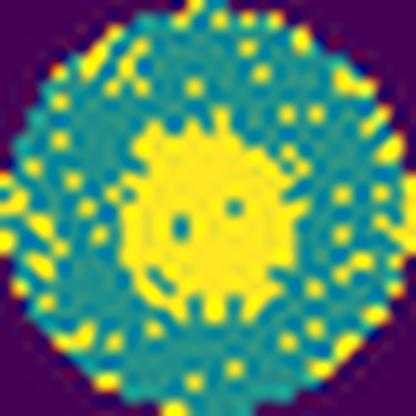Center: (112, 108, 310, 328)
